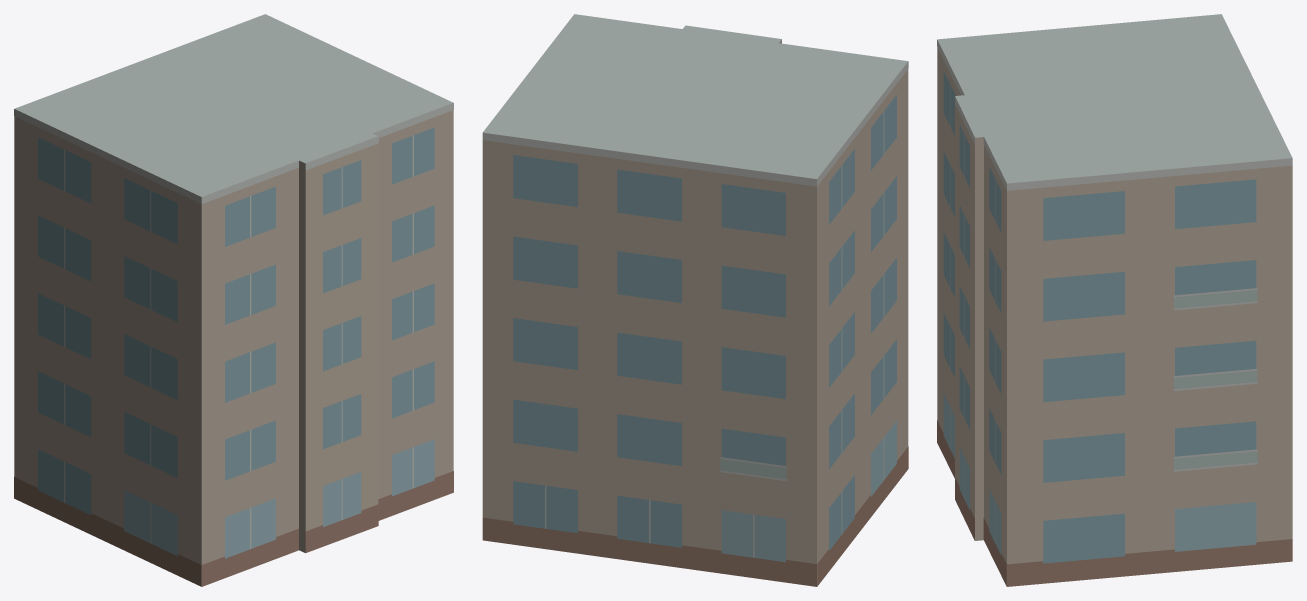
The model's file is survey-upis-32737767.glb.
3 views of the same model, side by side, from view 1: azimuth 30°, elevation 25°; view 2: azimuth 150°, elevation 25°; view 3: azimuth 270°, elevation 25° (orthographic). The views are drawn at different scales.
Parts seen in each view (by area): view 1: survey-upis-32737767.tmp; view 2: survey-upis-32737767.tmp; view 3: survey-upis-32737767.tmp.
Boxes of the visible parts, left/top/right/bottom form: survey-upis-32737767.tmp: left=14, top=14, right=453, bottom=586; survey-upis-32737767.tmp: left=482, top=14, right=908, bottom=586; survey-upis-32737767.tmp: left=937, top=14, right=1292, bottom=586.
Size of the model in its own units: 12.09 by 13.4 by 10.72.
